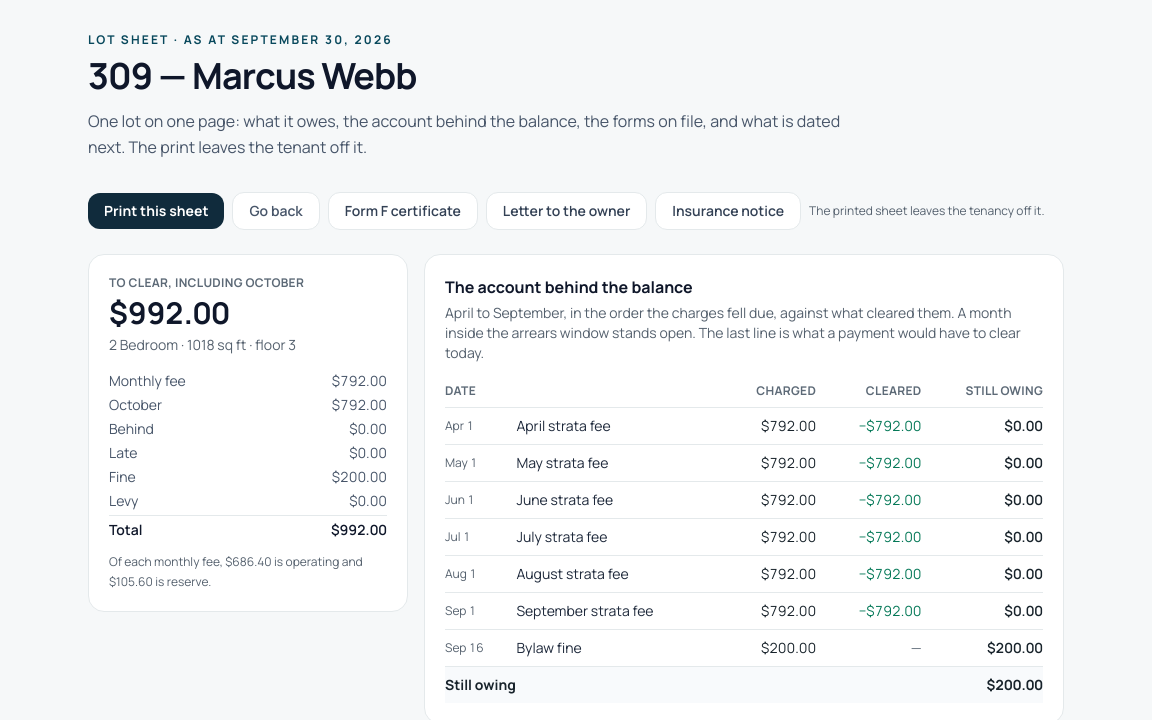
/units/[lot] — the Form F certificate › withholds lot 309’s certificate for its unpaid fine
Click the button "Form F certificate".
click(403, 211)  # box 328,192 -> 478,230
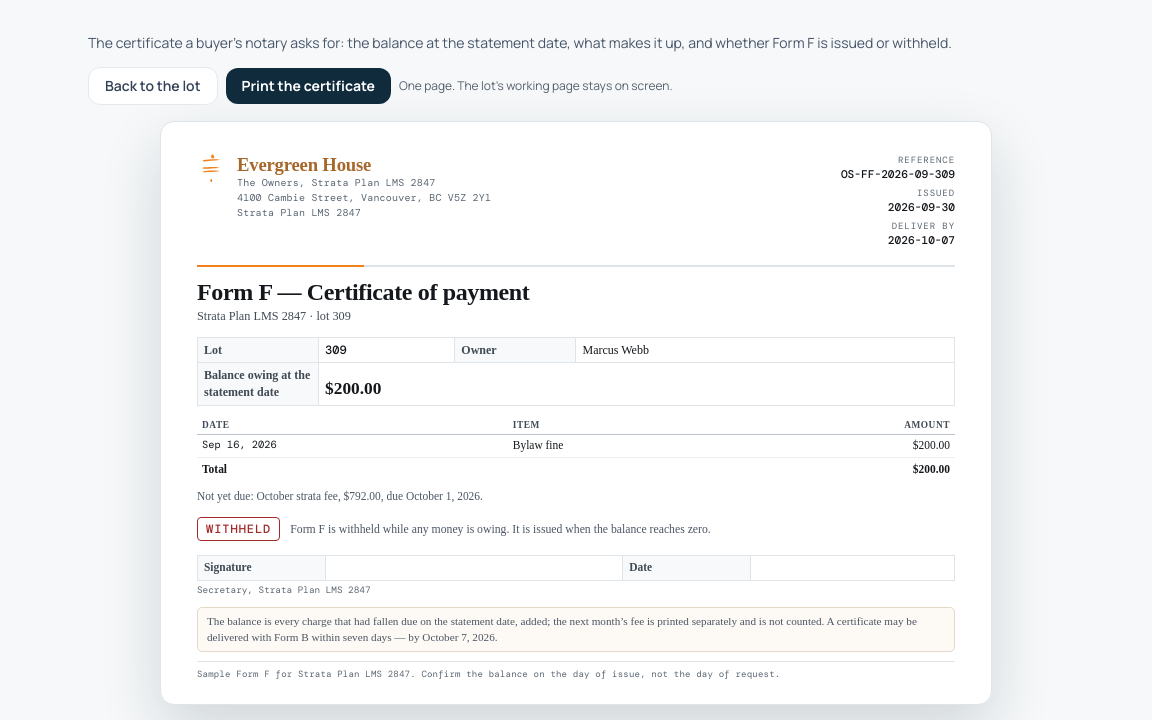
Expected: the element with class "ff-doc" is shown, 160,121 -> 992,706
Expected: the element with class "ff-doc" shows "Withheld", 206,521 -> 271,537
Expected: the element with class "ff-doc" shows "$200.00", 325,379 -> 381,398
